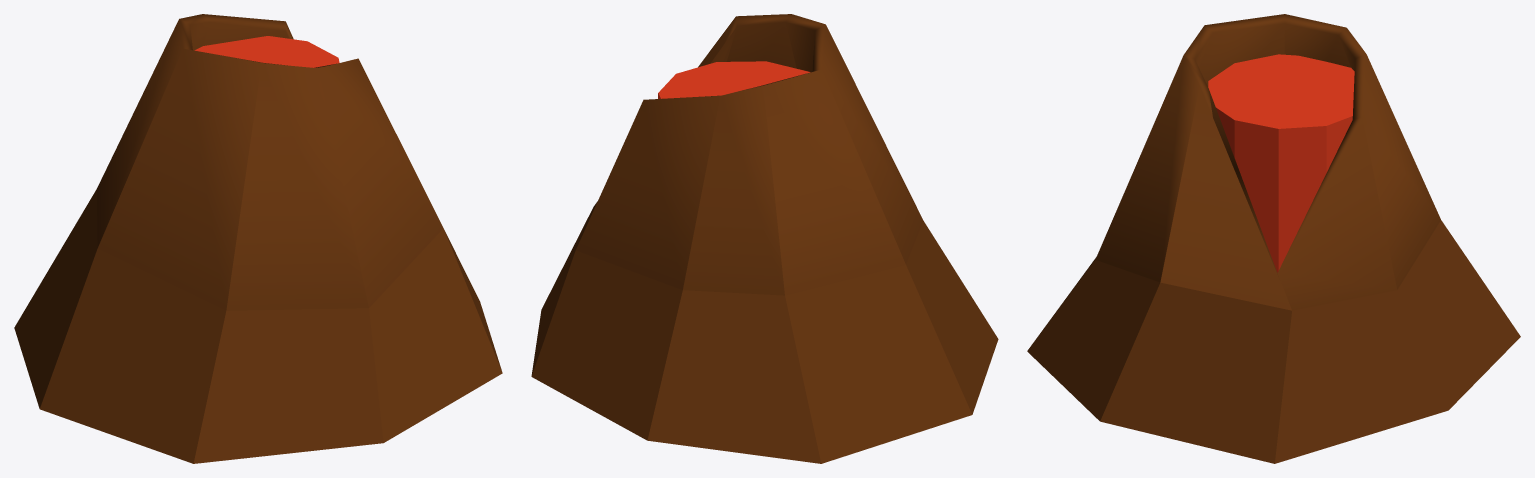
Rendered from deadV.fbx.
The picture shows the model from 3 angles, left to right: view 1: azimuth 30°, elevation 25°; view 2: azimuth 150°, elevation 25°; view 3: azimuth 270°, elevation 25°; orthographic projection. The views are drawn at different scales.
Visible parts, largest first — view 1: daedV, deadVL; view 2: daedV, deadVL; view 3: daedV, deadVL.
Boxes of the visible parts, x1,y1,x2,y2 form: daedV: (14, 14, 502, 463); deadVL: (194, 36, 339, 67); daedV: (531, 14, 998, 463); deadVL: (658, 61, 810, 98); daedV: (1027, 14, 1520, 463); deadVL: (1208, 54, 1354, 272).
Size of the model in its own units: 246 by 177 by 246.
